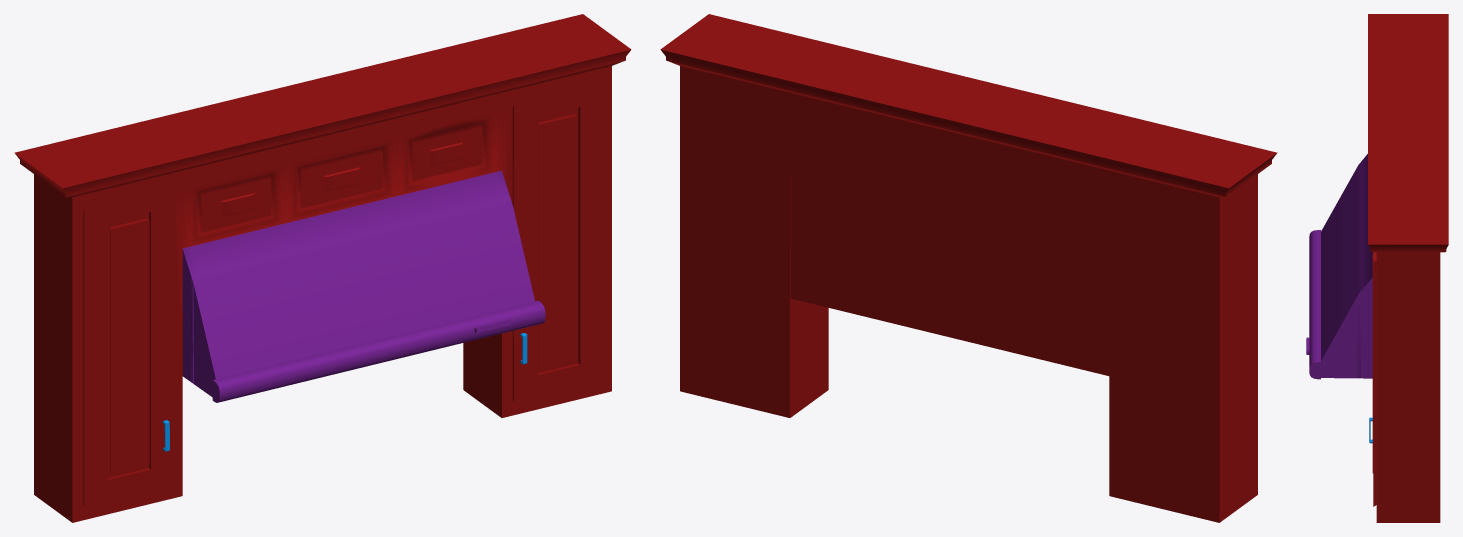
The model's file is hotte.fbx.
3 views of the same model, side by side, from view 1: azimuth 30°, elevation 25°; view 2: azimuth 150°, elevation 25°; view 3: azimuth 270°, elevation 25° (orthographic). The views are drawn at different scales.
Visible parts, largest first — view 1: hotte; view 2: hotte; view 3: hotte.
Part boxes in pixels (x1,y1,x2,y2): hotte: [14, 14, 631, 522]; hotte: [660, 14, 1277, 522]; hotte: [1306, 14, 1448, 522].
Size of the model in its own units: 208 by 120 by 54.48.
